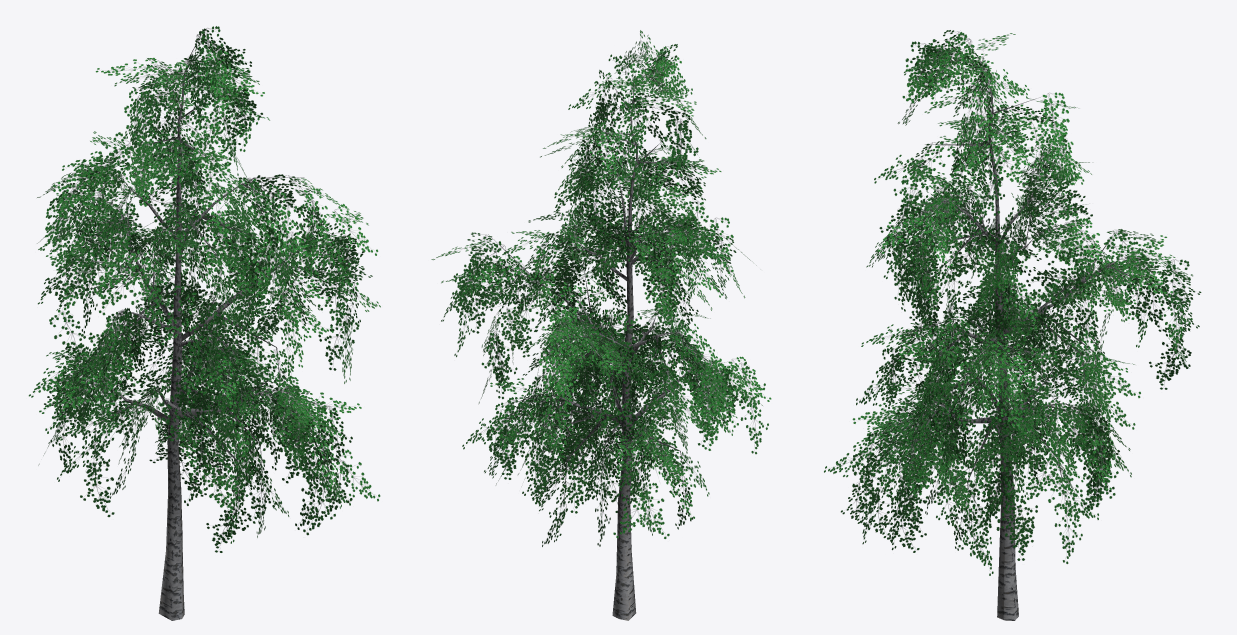
Rendered from Birke 1.glb.
3 views of the same model, side by side, from view 1: azimuth 30°, elevation 25°; view 2: azimuth 150°, elevation 25°; view 3: azimuth 270°, elevation 25° (orthographic). The views are drawn at different scales.
Visible parts, largest first — view 1: Birke 1; view 2: Birke 1; view 3: Birke 1.
Boxes of the visible parts, box(x1,y1,x2,y2) form: Birke 1: box(28, 26, 380, 620); Birke 1: box(431, 30, 771, 620); Birke 1: box(824, 30, 1201, 620).
Bounding box in the file's own units: 0.989 × 1.63 × 0.9833.
Materials: 2 (2 with a texture image).
